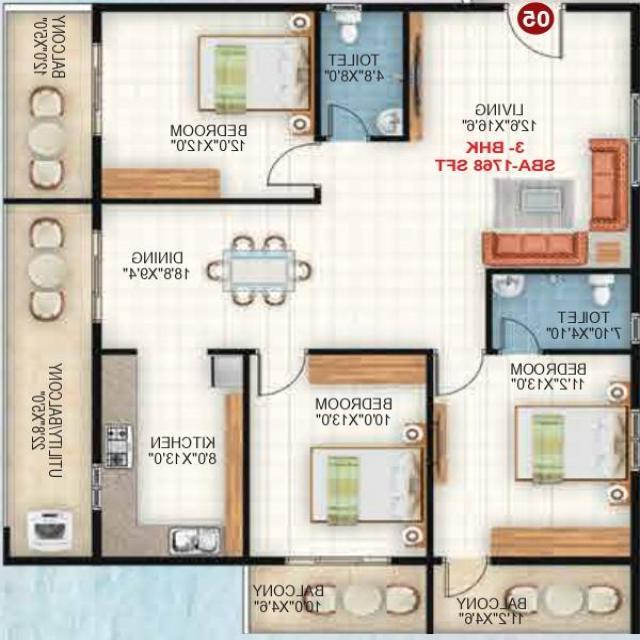Balcony-Sitout: (10, 205, 89, 558), (8, 10, 89, 198), (431, 565, 634, 633), (247, 563, 426, 633)
Bedroom: (103, 12, 318, 195), (251, 357, 426, 554)
Bedroom with Toilet: (425, 268, 640, 561)
Dining: (204, 234, 310, 309)
Enterance-Foyer: (501, 4, 568, 61)
Kitchen: (102, 355, 243, 556)
Living: (406, 11, 634, 267)
Toilet: (488, 271, 636, 351), (320, 9, 404, 135)
